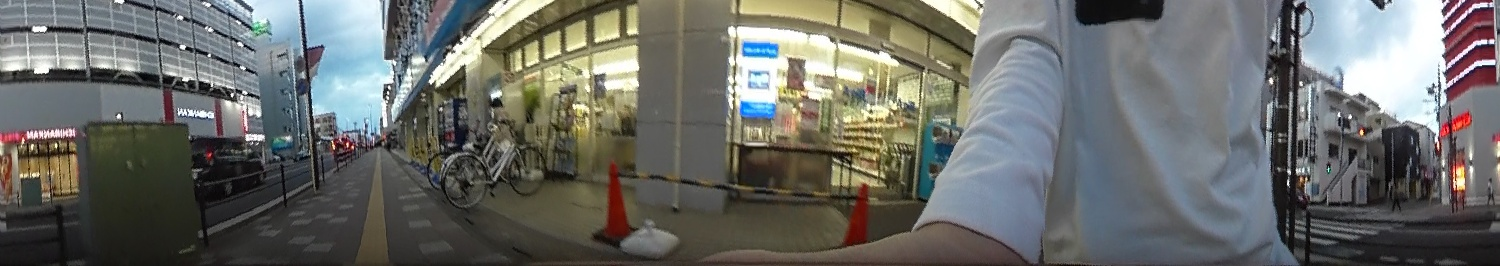difficult_person: (1389, 179, 1402, 210), (1483, 175, 1495, 202)
